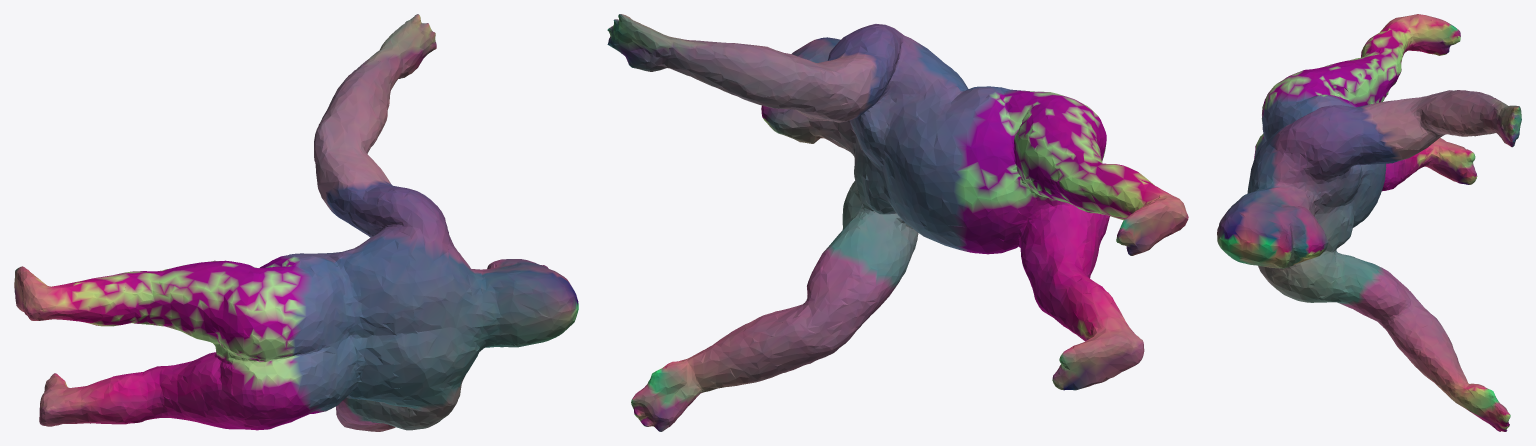
The model's file is gorilla-4.off.obj.
3 views of the same model, side by side, from view 1: azimuth 30°, elevation 25°; view 2: azimuth 150°, elevation 25°; view 3: azimuth 270°, elevation 25° (orthographic). The views are drawn at different scales.
Bounding box in the file's own units: 1.39 × 1.1 × 0.9037.
